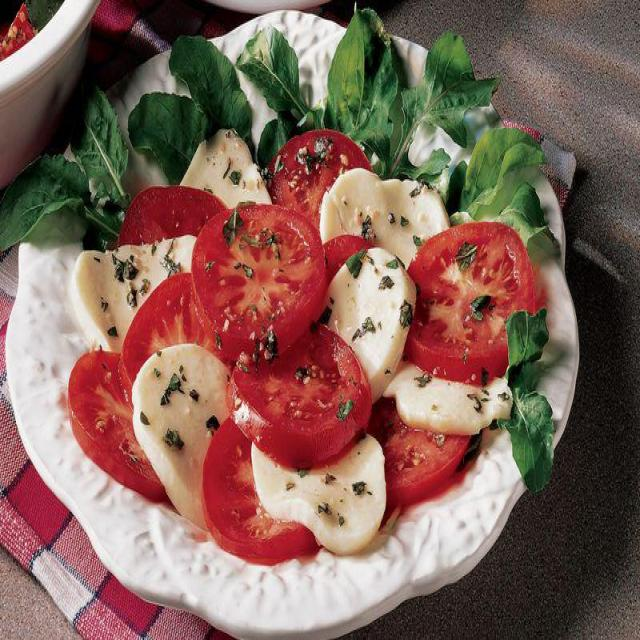Tomato: (194, 194, 332, 350), (405, 220, 534, 374), (231, 324, 366, 452), (66, 340, 146, 486), (266, 132, 363, 213)
